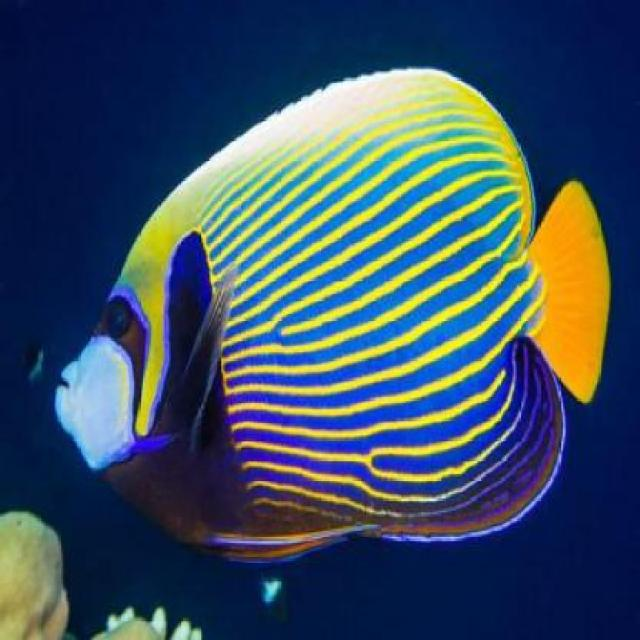AngelFish: (54, 65, 613, 554)
